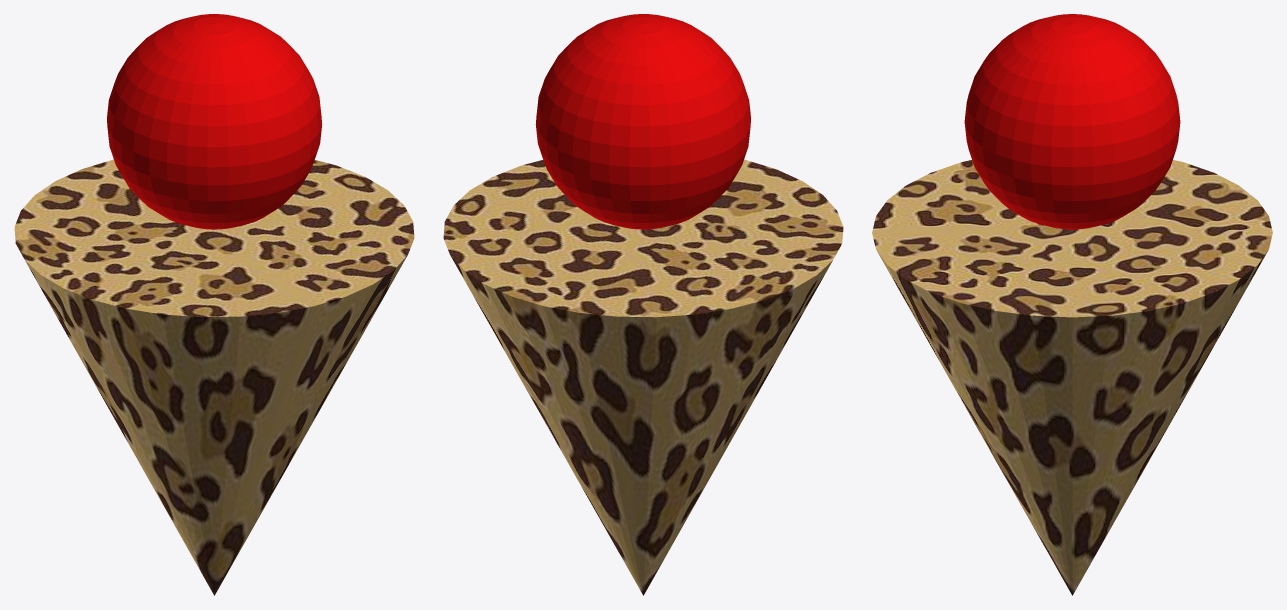
The model's file is cheetah_cone.glb.
3 views of the same model, side by side, from view 1: azimuth 30°, elevation 25°; view 2: azimuth 150°, elevation 25°; view 3: azimuth 270°, elevation 25° (orthographic).
Visible parts, largest first — view 1: Cone, Sphere; view 2: Cone, Sphere; view 3: Cone, Sphere.
Boxes of the visible parts, left/top/right/bottom form: Cone: left=14, top=159, right=414, bottom=595; Sphere: left=107, top=14, right=322, bottom=229; Cone: left=443, top=159, right=843, bottom=595; Sphere: left=535, top=14, right=750, bottom=229; Cone: left=872, top=160, right=1272, bottom=595; Sphere: left=964, top=14, right=1180, bottom=229.
Bounding box in the file's own units: 2 × 3.15 × 2.
2 materials, 1 textured.
